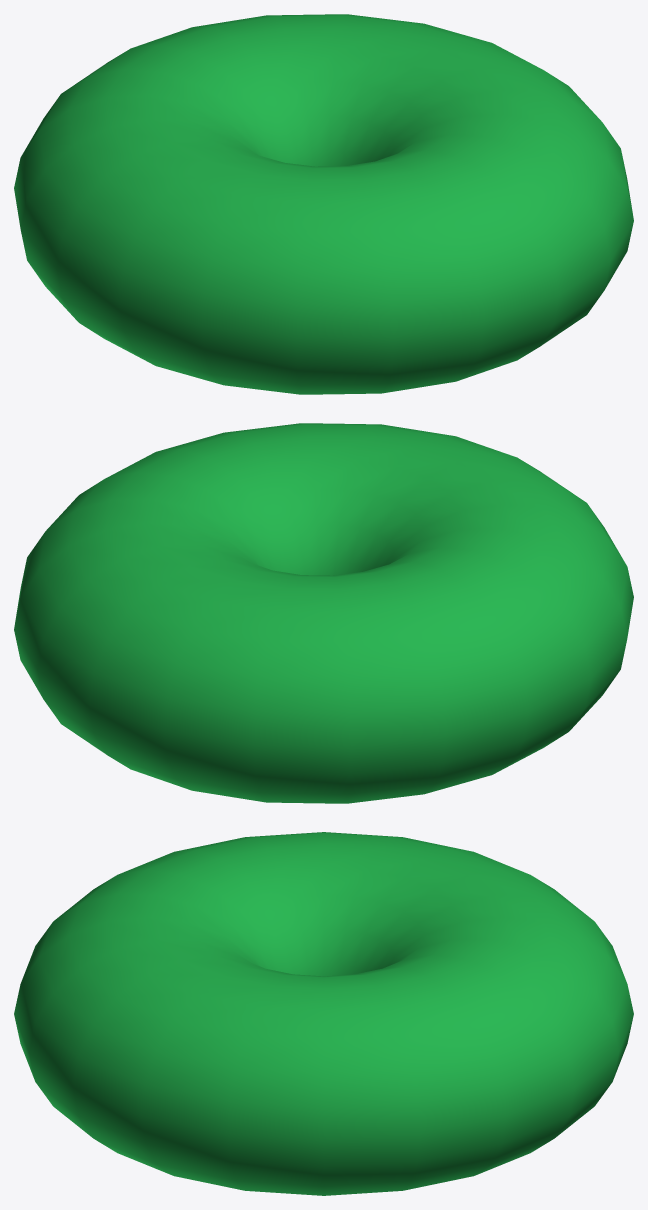
The model's file is ToroideVerde.obj.
3 renders of one model, top to bottom at view 1: azimuth 30°, elevation 25°; view 2: azimuth 150°, elevation 25°; view 3: azimuth 270°, elevation 25°, orthographic. The views are drawn at different scales.
Visible parts, largest first — view 1: pasted__pTorus3 group4; view 2: pasted__pTorus3 group4; view 3: pasted__pTorus3 group4.
Boxes of the visible parts, x1,y1,x2,y2 form: pasted__pTorus3 group4: (14,14,633,394); pasted__pTorus3 group4: (14,423,633,803); pasted__pTorus3 group4: (14,832,633,1195).
Size of the model in its own units: 3.05 by 1.09 by 3.17.
Materials: 1 (1 with a texture image).
